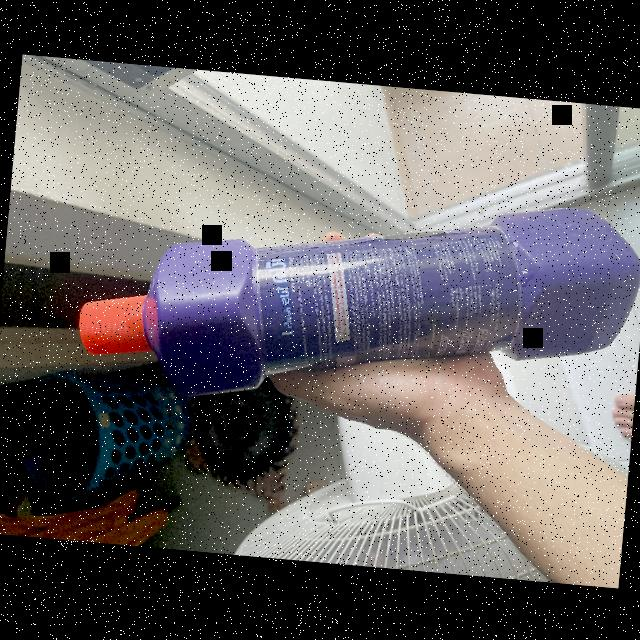chemical_plastic_bottle: (65, 157, 640, 434)
